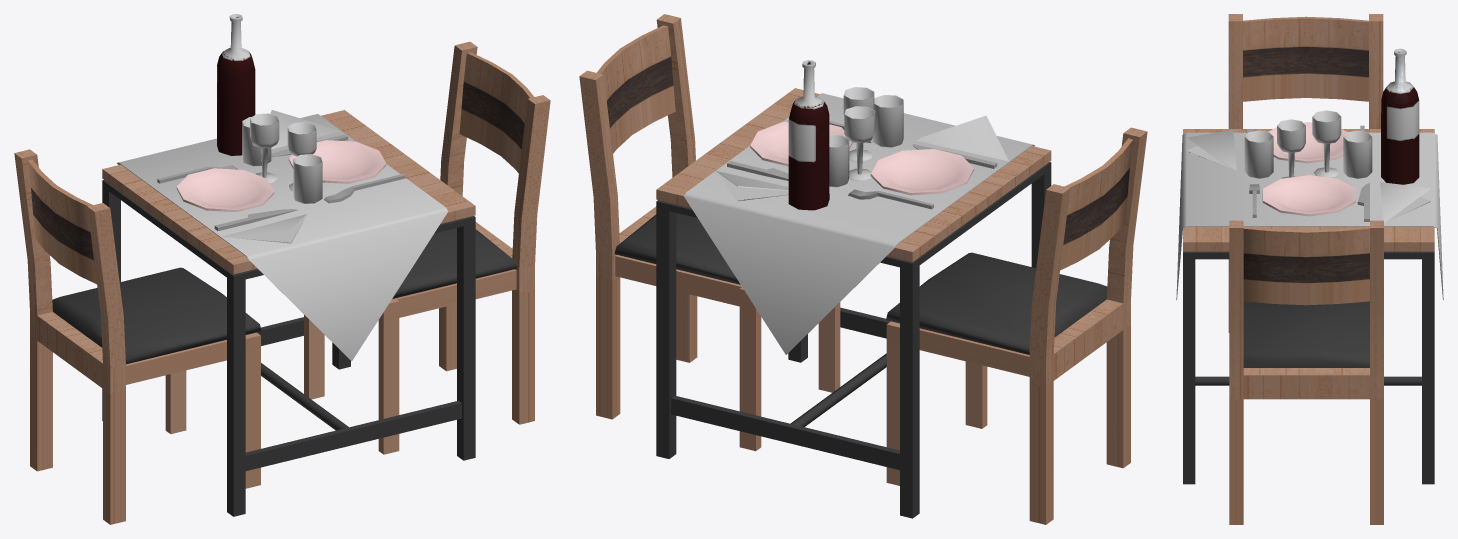
The model's file is table.fbx.
The picture shows the model from 3 angles, left to right: view 1: azimuth 30°, elevation 25°; view 2: azimuth 150°, elevation 25°; view 3: azimuth 270°, elevation 25°; orthographic projection. The views are drawn at different scales.
Visible parts, largest first — view 1: chaise_neo, chaise_neo_1, nappe, table_pour_2, couvers_1, verres; view 2: chaise_neo, chaise_neo_1, table_pour_2, nappe, couvers_1, verres; view 3: chaise_neo_1, chaise_neo, nappe, couvers_1, table_pour_2, verres.
Boxes of the visible parts, x1,y1,x2,y2 form: chaise_neo: (14, 149, 261, 524); chaise_neo_1: (304, 41, 550, 454); nappe: (117, 114, 448, 361); table_pour_2: (102, 110, 475, 516); couvers_1: (157, 14, 405, 243); verres: (242, 113, 322, 203); chaise_neo: (886, 127, 1147, 524); chaise_neo_1: (579, 14, 840, 451); table_pour_2: (656, 88, 1051, 518); nappe: (684, 93, 1034, 354); couvers_1: (715, 60, 1008, 210); verres: (829, 87, 903, 187); chaise_neo_1: (1229, 220, 1383, 524); chaise_neo: (1228, 14, 1383, 332); nappe: (1176, 132, 1443, 300); couvers_1: (1186, 48, 1430, 223); table_pour_2: (1183, 129, 1434, 484); verres: (1244, 110, 1372, 178).
Bounding box in the file's own units: 152 × 123 × 79.55.
5 materials, 3 textured.
